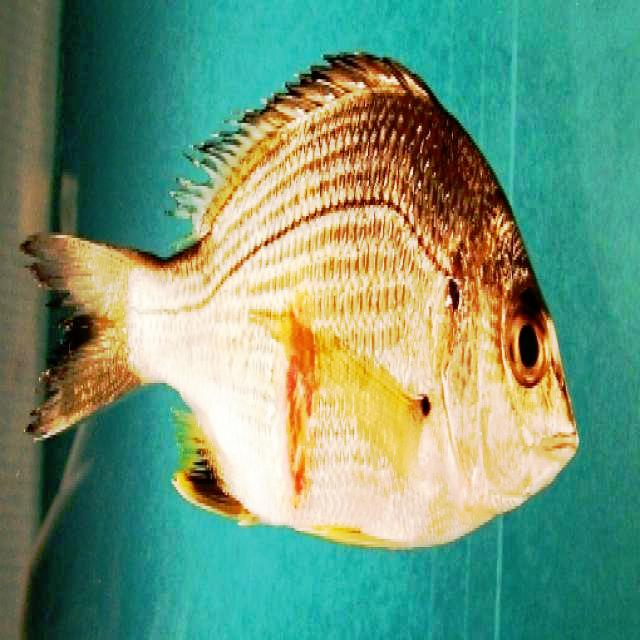Epizootic Ulcerative Syndrome -EUS-: (21, 53, 575, 545)
